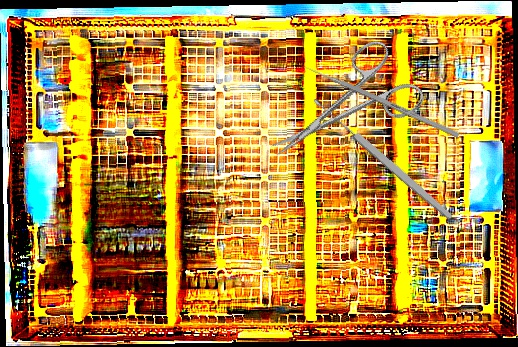Iris Scissors: (251, 32, 429, 184)
Pusher: (299, 62, 460, 138)
Surgical Spoon: (310, 94, 456, 223)
